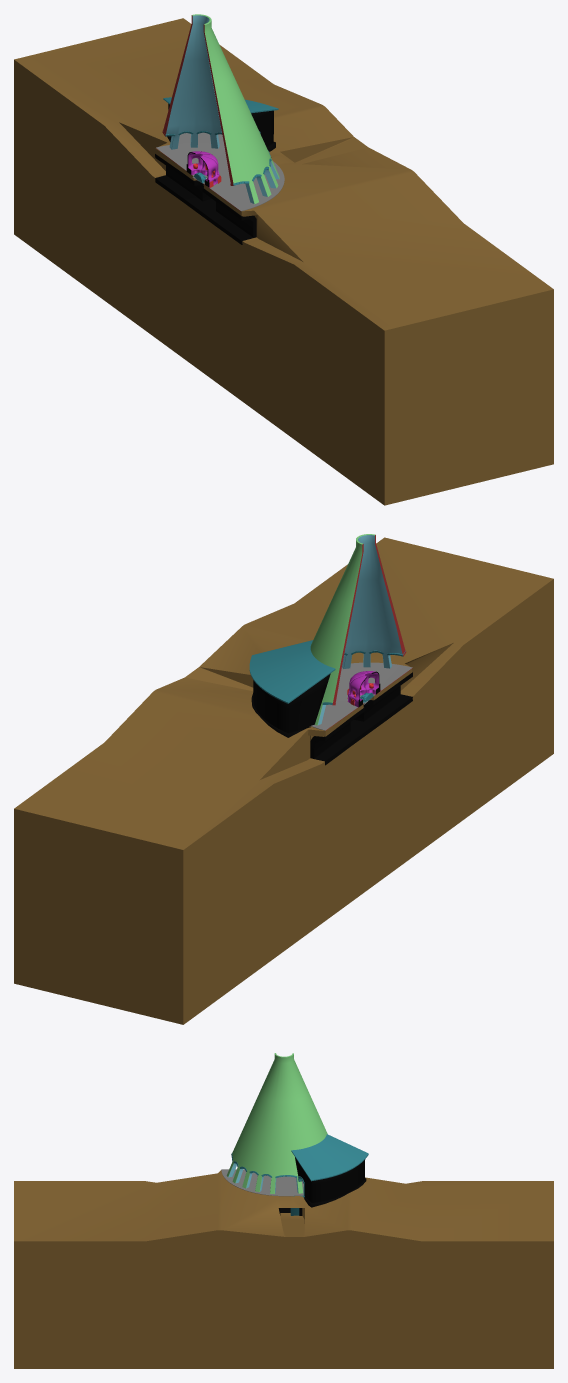
File: RauchgasKegel_Crosssection.fbx
The picture shows the model from 3 angles, top to bottom: view 1: azimuth 30°, elevation 25°; view 2: azimuth 150°, elevation 25°; view 3: azimuth 270°, elevation 25°; orthographic projection. The views are drawn at different scales.
Visible parts, largest first — view 1: GroundSlice_low, cone_low, SliceEdge_low, ground_low; view 2: GroundSlice_low, cone_low, SliceEdge_low, extension_006_low, extension_003_low3, ground_low; view 3: GroundSlice_low, cone_low, extension_006_low, extension_003_low3, ground_low.
Part boxes in pixels (x1,y1,x2,y2): GroundSlice_low: [14, 18, 553, 505]; cone_low: [165, 14, 279, 204]; SliceEdge_low: [155, 15, 256, 244]; ground_low: [156, 132, 284, 211]; GroundSlice_low: [14, 537, 553, 1024]; cone_low: [310, 534, 402, 725]; SliceEdge_low: [310, 535, 412, 765]; extension_006_low: [249, 640, 335, 702]; extension_003_low3: [253, 673, 330, 733]; ground_low: [310, 662, 412, 730]; GroundSlice_low: [14, 1170, 553, 1368]; cone_low: [226, 1053, 327, 1193]; extension_006_low: [291, 1134, 368, 1180]; extension_003_low3: [295, 1157, 365, 1202]; ground_low: [221, 1169, 303, 1196].
Bounding box in the file's own units: 848 × 3179 × 1658.
